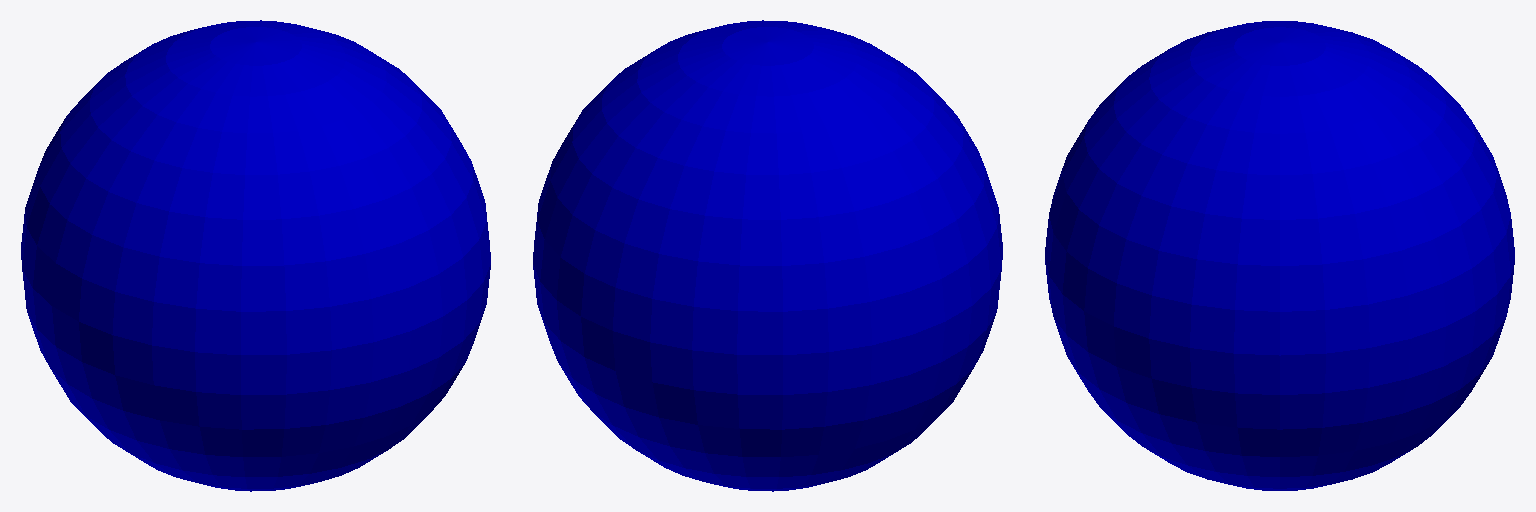
The robot description file, URDF, robot "bb_8":
<?xml version="1.0" encoding="utf-8"?>
<robot name="bb_8">

  <link name="base_link">
    <inertial>
      <origin rpy="0 0 0" xyz="0.0 0.0 -0.3" />
      <mass value="40.0" />
      <inertia ixx="0.16" ixy="0.0" ixz="0.0" iyy="0.16" iyz="0.0" izz="0.16"/>
      <!-- inertia ixx="1.225" ixy="0.0099" ixz="0.0062" iyy="1.2853" iyz="-0.0034" izz="0.987" /-->
    </inertial>
    <collision>
      <origin rpy="0 0 0" xyz="0 0 0" />
      <geometry>
        <sphere radius="0.1"/> <!-- 0.5 -->
      </geometry>
    </collision>
    <visual>
      <origin rpy="0 0 0" xyz="0 0 0" />
      <geometry>
        <sphere radius="0.1"/>
      </geometry>
      <material name="orange">
        <color rgba="0 0 .8 1"/>
      </material>    
    </visual>
  </link>

  <link name="base_rotation_link">
    <inertial>
      <origin rpy="0 0 0" xyz="0 0 0" />
      <mass value="1.0" />
      <inertia ixx="0.004" ixy="0.0" ixz="0.0" iyy="0.004" iyz="0.0" izz="0.004" />
      <!-- inertia ixx="1.225" ixy="0.0099" ixz="0.0062" iyy="1.2853" iyz="-0.0034" izz="0.987" /-->
    </inertial>
    <collision>
      <origin rpy="0 0 0" xyz="0 0 0" />
      <geometry>
	<sphere radius="0.1"/>        <!-- box size="0.1 0.1 0.1"/-->
      </geometry>
    </collision>
    <visual>
      <origin rpy="0 0 0" xyz="0 0 0" />
      <geometry>
        <sphere radius="0.1"/>
      </geometry>
      <material name="blue">
        <color rgba="0 0 .8 1"/>
      </material>    
    </visual>
  </link>


  <joint name="rotation_joint" type="revolute">
    <origin rpy="0 0 0" xyz="0.0 0.0 0.0" />
    <parent link="base_link" />
    <child link="base_rotation_link" />
    <axis xyz="0 0 1" />
    <limit effort="18.85" lower="-1e+16" upper="1e+16" velocity="0.3" />
  </joint>

  <link name="base_direction_link">
    <inertial>
      <origin rpy="0 0 0" xyz="0 0 0" />
      <mass value="1.0" />
      <inertia ixx="0.049" ixy="0.0" ixz="0.0" iyy="0.049" iyz="0.0" izz="0.049" />
      <!--inertia ixx="1.225" ixy="0.0099" ixz="0.0062" iyy="1.2853" iyz="-0.0034" izz="0.987" /-->
    </inertial>
    <collision>
      <origin rpy="0 0 0" xyz="0 0 0" />
      <geometry>
        <!--mesh filename="meshes/ball.obj" scale="1 1 1"/-->
        <sphere radius="0.35"/>
      </geometry>
    </collision>
    <visual>
      <origin rpy="0 0 0" xyz="0 0.0 -0.35" />
      <geometry>
        <mesh filename="meshes/ball.obj" scale="1 1 1"/>
        <!-- sphere radius="0.5"/ -->      
      </geometry>
      <!--material name="blue">
        <color rgba="0 0 .8 1"/>
      </material-->
      <material name="white">
        <color rgba="0.95 0.95 0.95 1"/>
      </material>  
    </visual>
  </link>

  <joint name="direction_joint" type="continuous">
    <origin rpy="0 0 0" xyz="0.0 0.0 0." />
    <parent link="base_rotation_link" />
    <child link="base_direction_link" />
    <axis xyz="1 0 0" />
    <limit effort="18.85" velocity="27.4" />
  </joint>

  <!-- link name="base_sphere_link">
    <inertial>
      <origin rpy="0 0 0" xyz="0.0 0.0 0.25" />
      <mass value="3.0" />
      <inertia ixx="1.225" ixy="0.0099" ixz="0.0062" iyy="1.2853" iyz="-0.0034" izz="0.987" />
    </inertial>
    <collision>
      <origin rpy="0 0 0" xyz="0 0 0" />
      <geometry>
        <sphere radius="0.5"/>
      </geometry>
    </collision>
    <visual>
      <origin rpy="0 0 0" xyz="0 0 0" />
      <geometry>
        <sphere radius="0.5"/>
      </geometry>
      <material name="blue">
        <color rgba="0 0 .8 1"/>
      </material>    
    </visual>
  </link>

  <joint name="wheel_joint" type="continuous">
    <origin rpy="0 0 0" xyz="0.0 0.0 0.5" />
    <parent link="base_direction_link" />
    <child link="base_sphere_link" />
    <axis xyz="1 0 0" />
    <limit effort="18.85" velocity="27.4" />
  </joint-->

  <!-- link name="head_support_link">
    <inertial>
      <origin rpy="0 0 0" xyz="0.0 0.0 0.0" />
      <mass value="1.0" />
      <inertia ixx="1.225" ixy="0.0099" ixz="0.0062" iyy="1.2853" iyz="-0.0034" izz="0.987" />
    </inertial>
    <collision>
      <origin rpy="0 0 0" xyz="0 0 0." />
      <geometry>
        <cylinder length="0.7" radius="0.02"/>
      </geometry>
    </collision>
    <visual>
      <origin rpy="0 0 0" xyz="0 0 0." />
      <geometry>
        <cylinder length="0.7" radius="0.02"/>
      </geometry>
    </visual>
  </link>

  <joint name="wheel_joint" type="continuous">
    <origin rpy="0 0 0" xyz="0.0 0.0 0.5" />
    <parent link="base_link" />
    <child link="head_support_link" />
    <axis xyz="1 0 0" />
    <limit effort="8.85" velocity="17.4" />
  </joint-->

  <link name="head_link">
    <inertial>
      <origin rpy="0 0 0" xyz="0.0 0.0 0.0" />
      <!-- mass value="3.0" /-->
      <mass value="0.5" />
      <inertia ixx="0.008" ixy="0.0" ixz="0.0" iyy="0.008" iyz="0.0" izz="0.008" />
      <!-- inertia ixx="1.225" ixy="0.0099" ixz="0.0062" iyy="1.2853" iyz="-0.0034" izz="0.987" /-->
    </inertial>
    <collision>
      <!-- origin rpy="1.56 0 0" xyz="0 0.0 0.35" /-->
      <origin rpy="1.56 0 0" xyz="0 0 0.35" />
      <geometry>
        <sphere radius="0.2"/>
        <!-- mesh filename="meshes/head.obj" scale="1 1 1"/-->
      </geometry>
    </collision>
    <visual>
      <origin rpy="0 0 3.14" xyz="0 0 -0.35" />
      <geometry>
        <mesh filename="meshes/head.obj" scale="1 1 1"/>
        <!-- sphere radius="0.2"/ -->
      </geometry>
      <!-- material name="orange">
        <color rgba="0 0 .8 1"/>
      </material-->
      <material name="white">
        <color rgba="0.9 0.9 0.9 1"/>
      </material>  
    </visual>
  </link>

  <joint name="head_joint" type="revolute">
    <origin rpy="0 0 0" xyz="0.0 0.0 0." />
    <parent link="base_rotation_link" />
    <child link="head_link" />
    <axis xyz="0 0 1" />
    <limit effort="0.10" velocity="0.1" lower="-1e+16" upper="1e+16"/>
  </joint>


  <!-- Camera -->
  <link name="camera_link">
    <!--collision>
      <origin xyz="0 0 0" rpy="0 0 0"/>
      <geometry>
        <box size="0.1 0.1 0.1"/>
      </geometry>
    </collision-->
    <inertial>
      <mass value="1e-5" />
      <origin xyz="0 0 0" rpy="0 0 0"/>
      <inertia ixx="1e-6" ixy="0" ixz="0" iyy="1e-6" iyz="0" izz="1e-6" />
    </inertial>
  </link>
  
 <joint name="camera_joint" type="fixed">
    <axis xyz="0 1 0" />
    <origin xyz="0. 0 0.6" rpy="0 0 1.57"/>
    <parent link="head_link"/>
    <child link="camera_link"/>
  </joint>


</robot>

--- What the picture shows (computed from the rendered views, not written in the file) ---
Views: 3 orthographic renders of the robot side by side, from view 1: azimuth 30°, elevation 25°; view 2: azimuth 150°, elevation 25°; view 3: azimuth 270°, elevation 25°.
Model bb_8 with 5 links and 4 joints (2 revolute, 1 continuous, 1 fixed), rooted at base_link, posed all joints at 0.
Visible links, largest first — view 1: base_link; view 2: base_link; view 3: base_link.
Boxes of the visible links, <box> form: base_link: <box>21,20,490,491</box>; base_link: <box>533,20,1002,491</box>; base_link: <box>1045,21,1514,490</box>.
Size in the robot's own frame: 0.2 by 0.2 by 0.2 metres.
0 mesh visuals loaded from 2 distinct referenced files (none loaded); not drawn: 2 (reference not matched to a file when rendering).